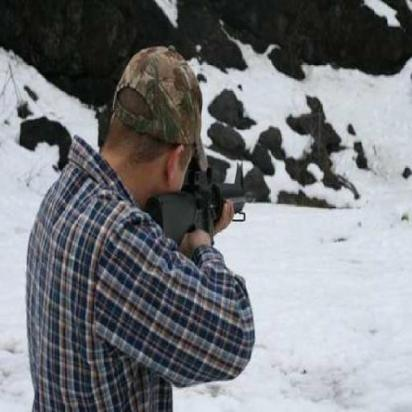Gun: (149, 144, 278, 270)
